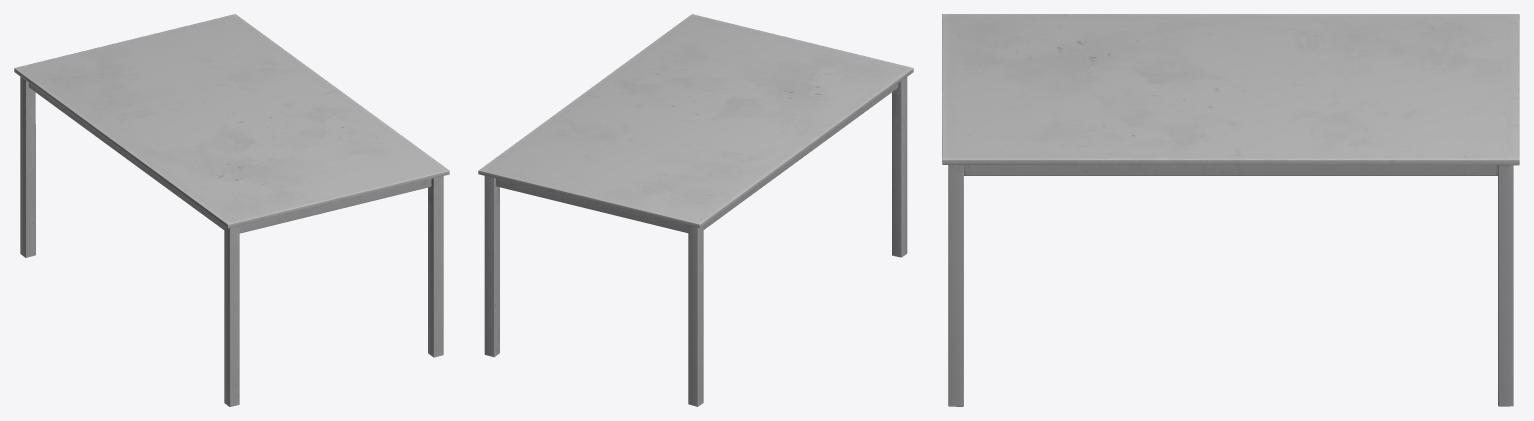
File: SM_Kitchen_Set01b.fbx
3 views of the same model, side by side, from view 1: azimuth 30°, elevation 25°; view 2: azimuth 150°, elevation 25°; view 3: azimuth 270°, elevation 25° (orthographic). The views are drawn at different scales.
Visible parts, largest first — view 1: SM_Kitchen_Set01b_LOD0; view 2: SM_Kitchen_Set01b_LOD0; view 3: SM_Kitchen_Set01b_LOD0.
Part boxes in pixels (x1,y1,x2,y2): SM_Kitchen_Set01b_LOD0: (14,14,449,406); SM_Kitchen_Set01b_LOD0: (478,14,913,406); SM_Kitchen_Set01b_LOD0: (942,14,1519,406).
Bounding box in the file's own units: 97.4 × 163 × 77.74.
